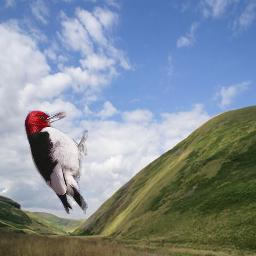Woodpecker: (24, 110, 88, 214)
